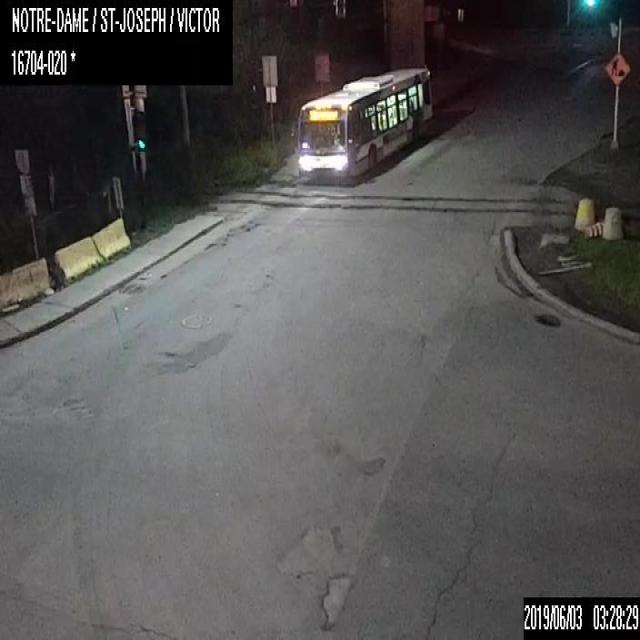bus: (297, 68, 432, 184)
construction: (604, 52, 630, 84), (584, 222, 602, 236)
